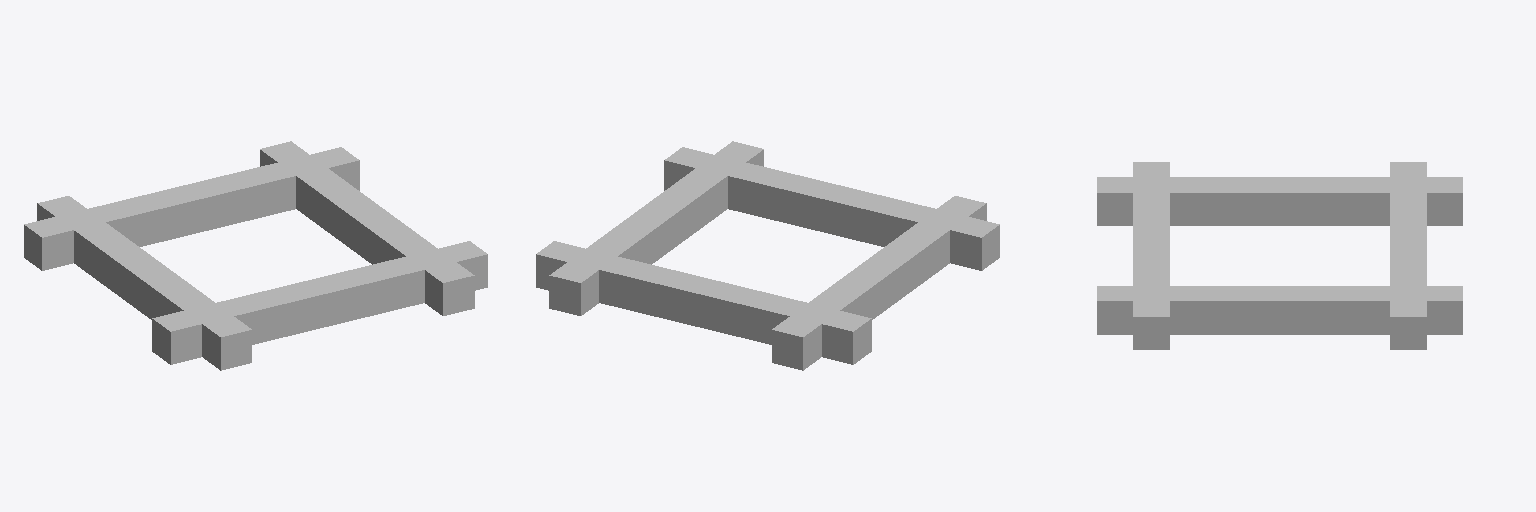
Rendered from rail.obj.
3 views of the same model, side by side, from view 1: azimuth 30°, elevation 25°; view 2: azimuth 150°, elevation 25°; view 3: azimuth 270°, elevation 25° (orthographic).
Parts seen in each view (by area): view 1: object 1; view 2: object 1; view 3: object 1.
Part boxes in pixels (x1,y1,x2,y2): object 1: (24, 141, 487, 370); object 1: (536, 141, 999, 370); object 1: (1097, 162, 1462, 349).
Bounding box in the file's own units: 1 × 0.1 × 1.